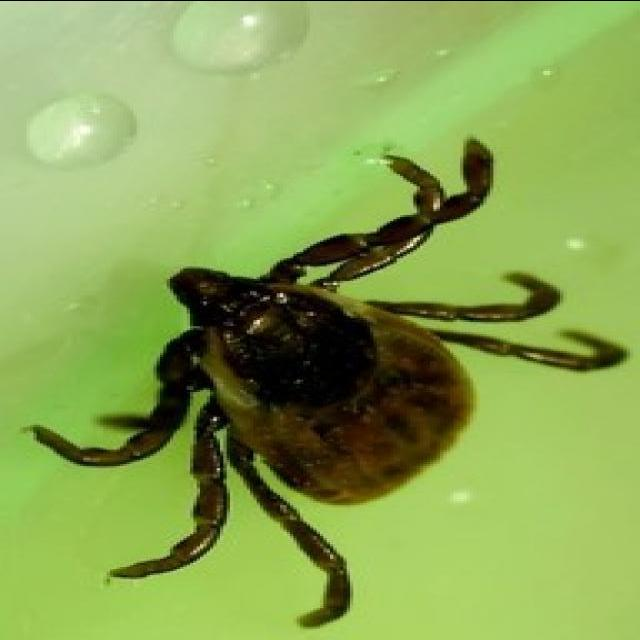Rhipicephalus Sanguineus-F: (27, 136, 630, 628)
